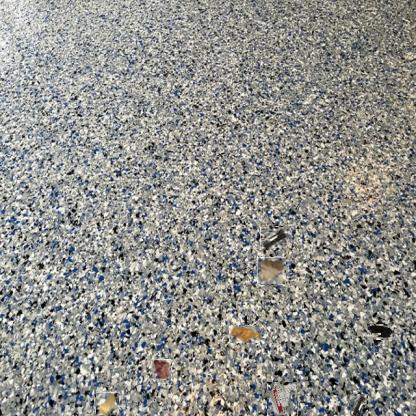dirty: (267, 382, 297, 416), (257, 256, 286, 284), (260, 226, 287, 250), (94, 393, 118, 416), (369, 321, 391, 343), (348, 395, 369, 416)
liquid: (229, 325, 260, 343), (151, 360, 172, 380)
